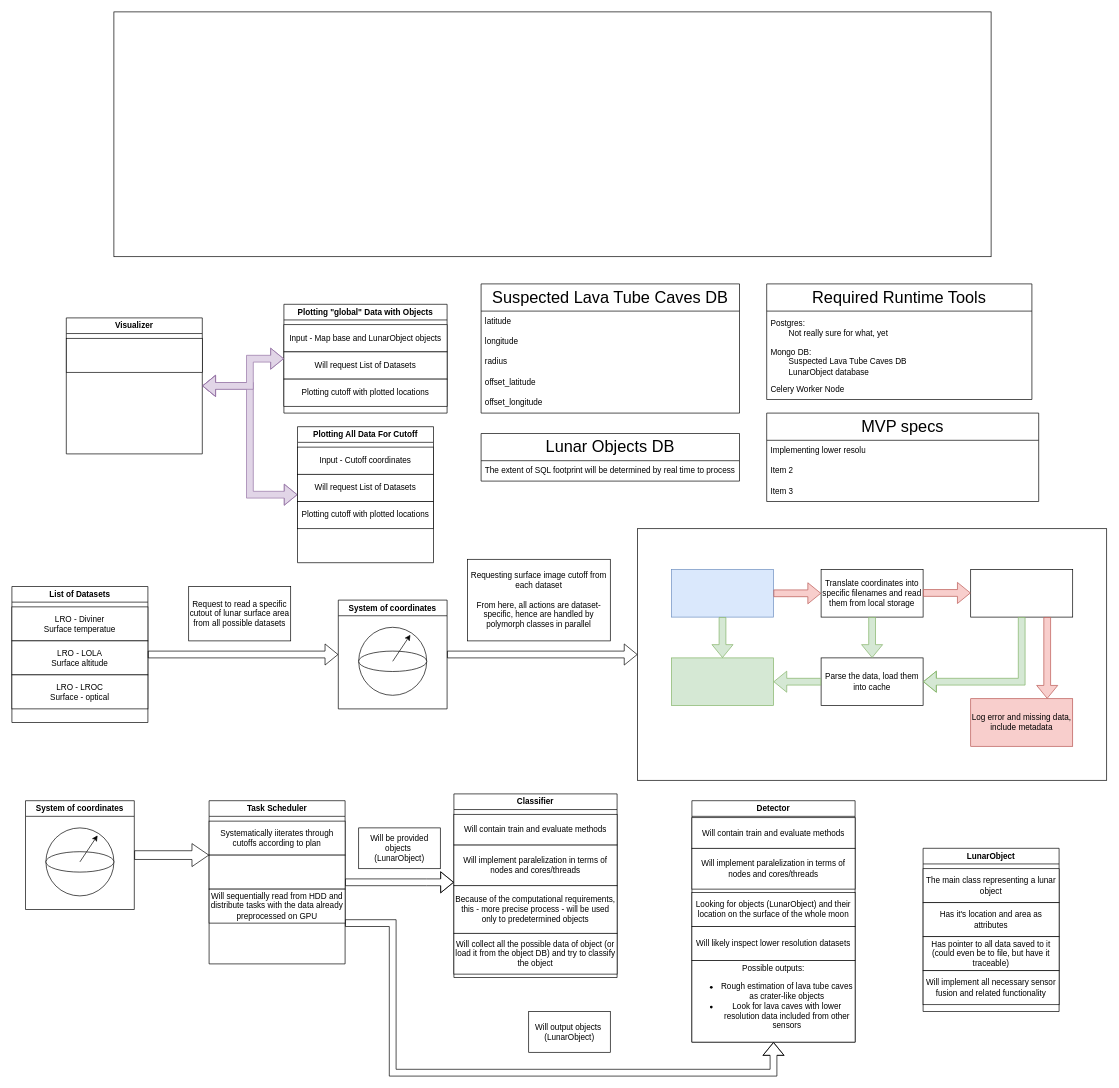
Image size: 1119x1088. Some labels were removed from this diagram. The shapes that lost their labels are listed below. From the top down, each one's centre as x and y in pixels, then its label:
At [552,134]: "Diploma Thesis MVP (Framework)".
At [134,355]: "Will be static module used to visualize surface datasets".
At [722,593]: "Load cutoff from cached, already parsed data".
At [1021,593]: "Fetch the missing file from particular server".
At [722,681]: "Return Data".
At [276,871]: "Will be orchestrating parallel celery jobs".
